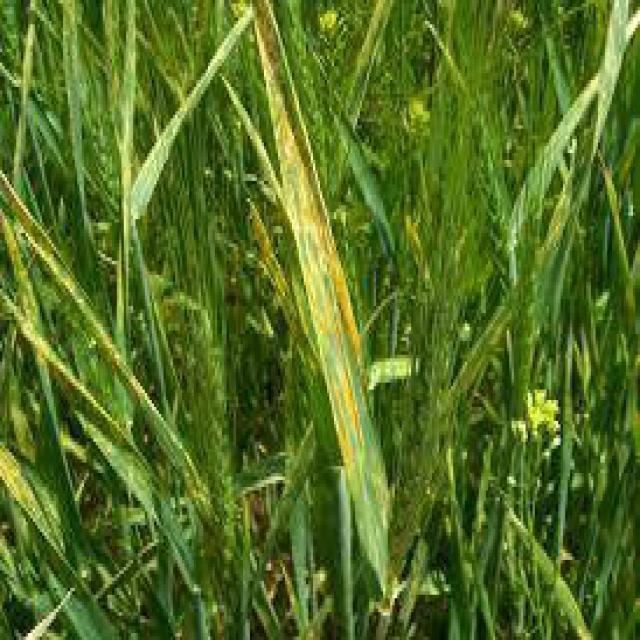Yellow Rust: (251, 2, 389, 599)
